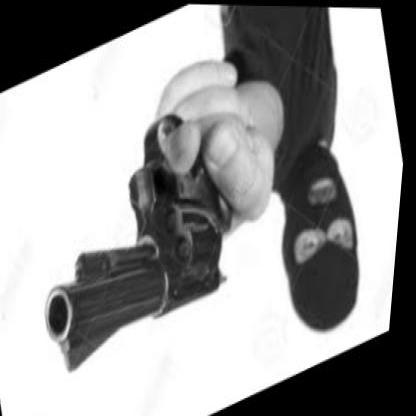pistol: (19, 85, 271, 380)
